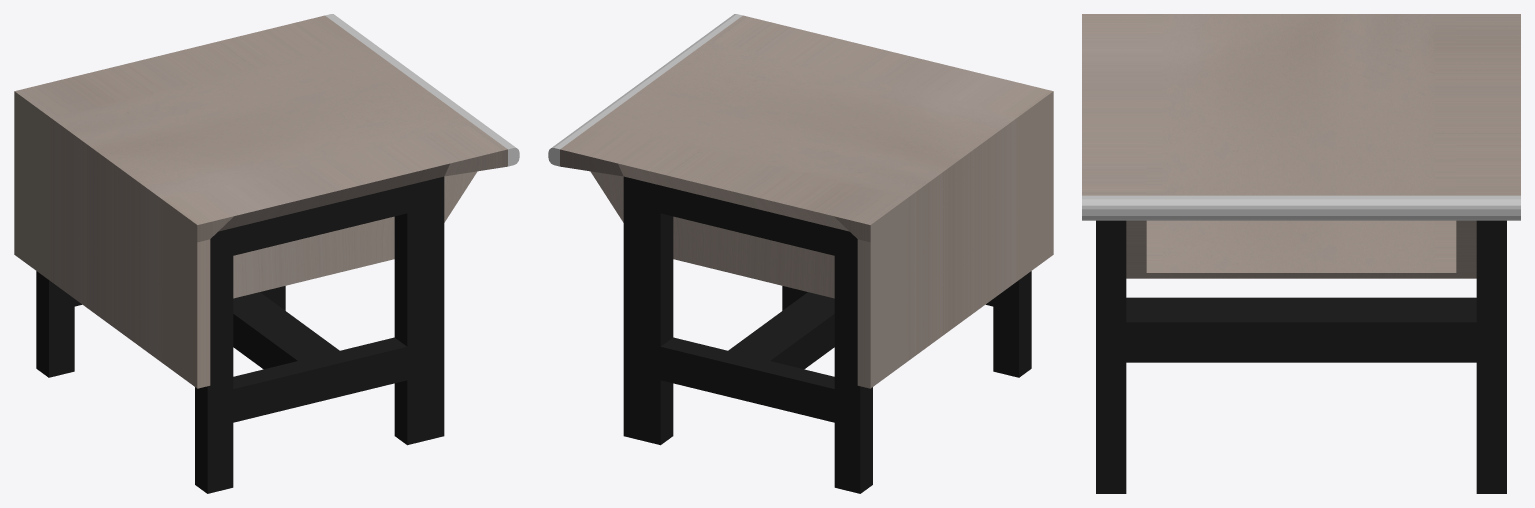
Rendered from Mesa_Pequena.fbx.
3 views of the same model, side by side, from view 1: azimuth 30°, elevation 25°; view 2: azimuth 150°, elevation 25°; view 3: azimuth 270°, elevation 25° (orthographic). The views are drawn at different scales.
Visible parts, largest first — view 1: Mesa_Pequena; view 2: Mesa_Pequena; view 3: Mesa_Pequena.
Part boxes in pixels (box(x1,y1,x2,y2)): Mesa_Pequena: box(14, 14, 519, 493); Mesa_Pequena: box(548, 14, 1053, 493); Mesa_Pequena: box(1082, 14, 1520, 493).
Bounding box in the file's own units: 154 × 127 × 152.
